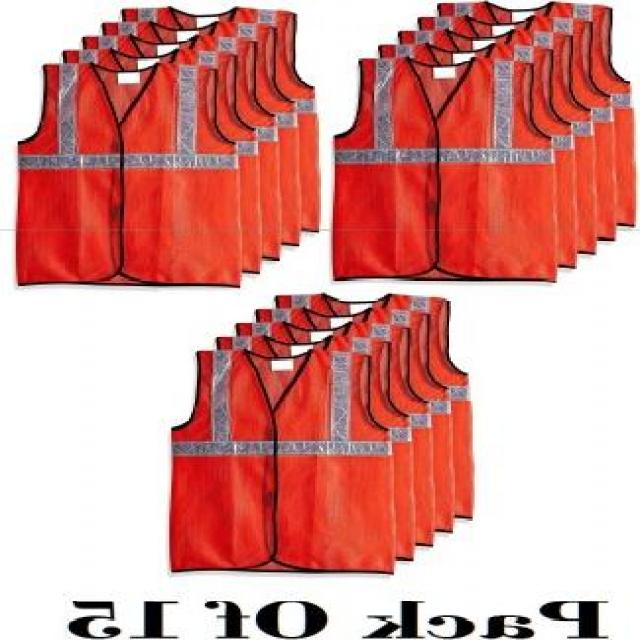Reflective-Jacket: (159, 294, 481, 579), (9, 3, 322, 293), (326, 3, 635, 285)
